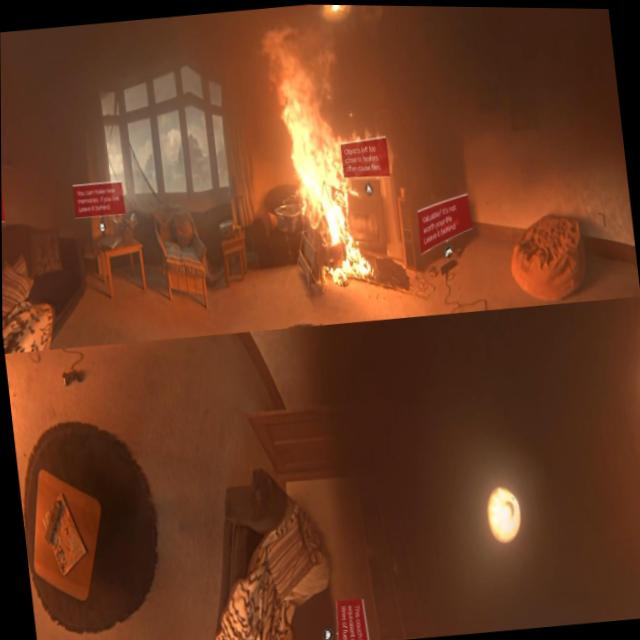fire: (263, 26, 375, 295)
